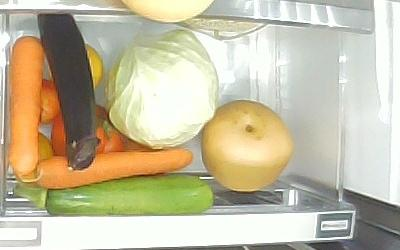cabbage: (104, 27, 221, 148)
carrot: (33, 149, 195, 191), (8, 36, 42, 185)
eggplant: (37, 14, 98, 173)
pear: (200, 100, 292, 192)
prune: (40, 78, 61, 124)
tangerine: (84, 43, 104, 89)
tomato: (50, 105, 127, 154)
zucchini: (11, 173, 215, 215)
